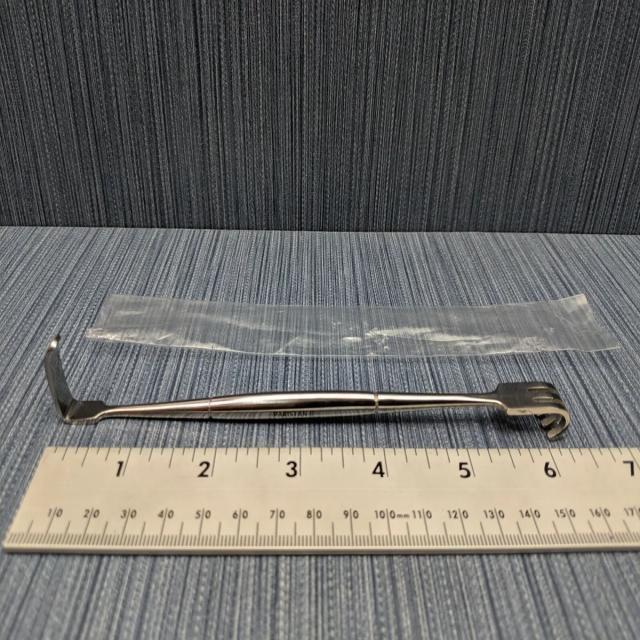Senn Retractor: (39, 320, 574, 444)
